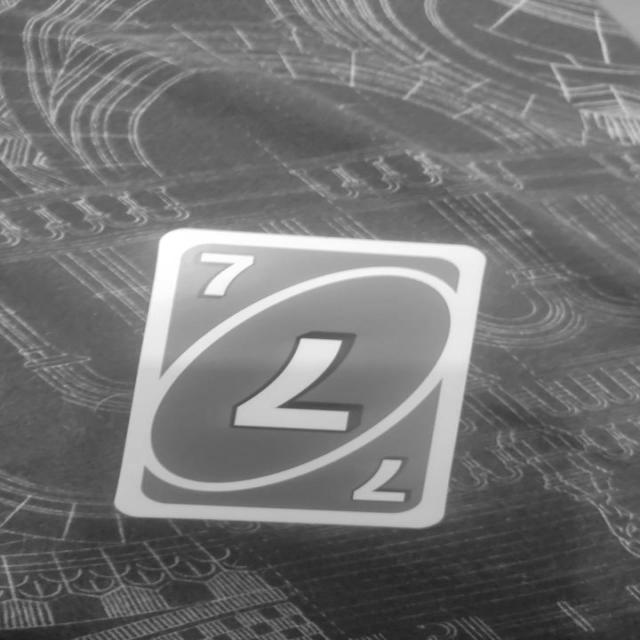card_7: (112, 226, 487, 529)
